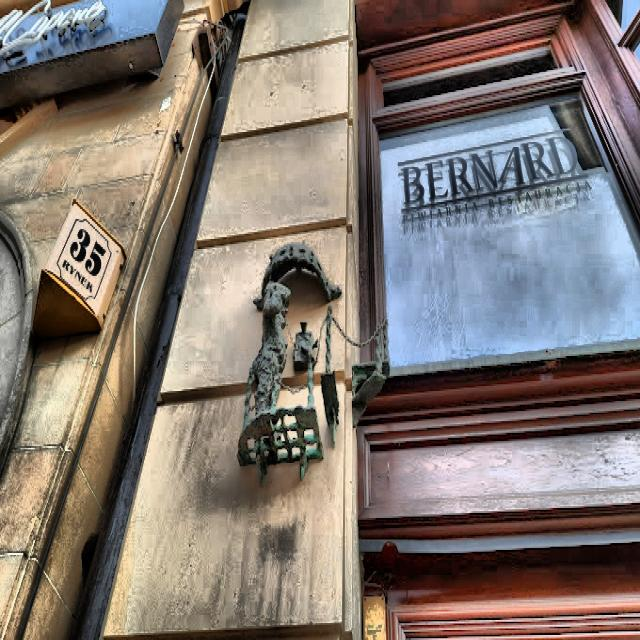Dryndek: (238, 244, 341, 483)
